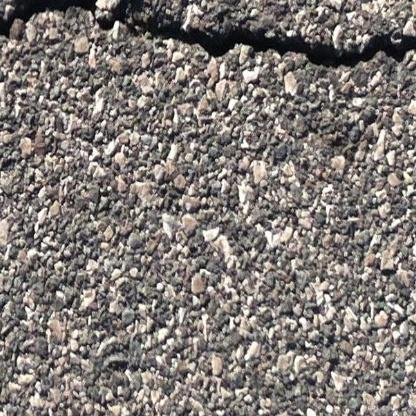Cracks: (0, 0, 416, 72)
